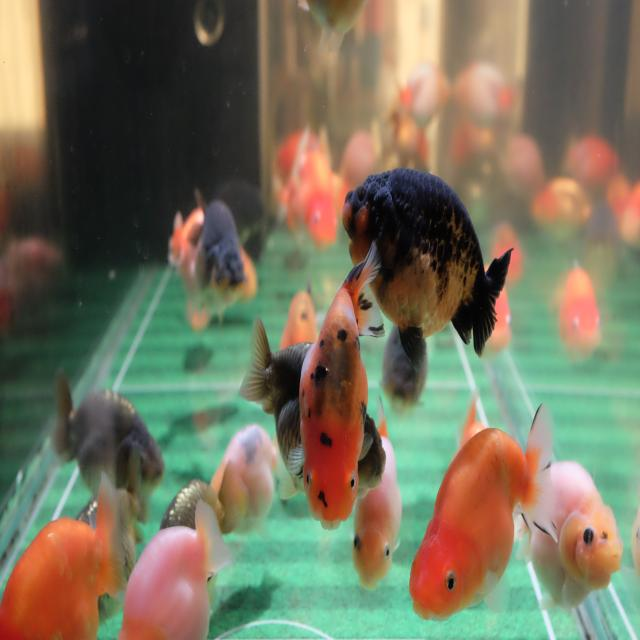Tilapia: (341, 164, 514, 374), (407, 401, 559, 625), (236, 316, 386, 498), (296, 240, 387, 532), (0, 469, 123, 640), (514, 461, 624, 616), (117, 500, 237, 640), (47, 365, 165, 500), (349, 391, 403, 591), (207, 421, 290, 538), (191, 184, 244, 318)
